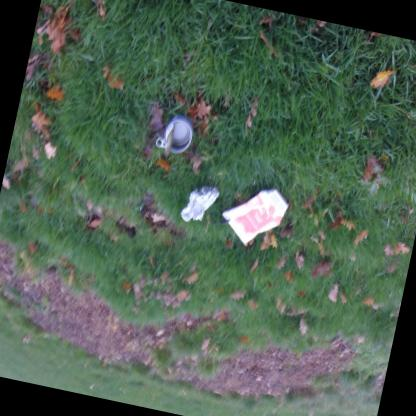Metal: (155, 114, 192, 154), (180, 183, 218, 220), (154, 137, 166, 147)
Paper: (220, 187, 287, 243)
Plastic: (213, 219, 228, 223)
